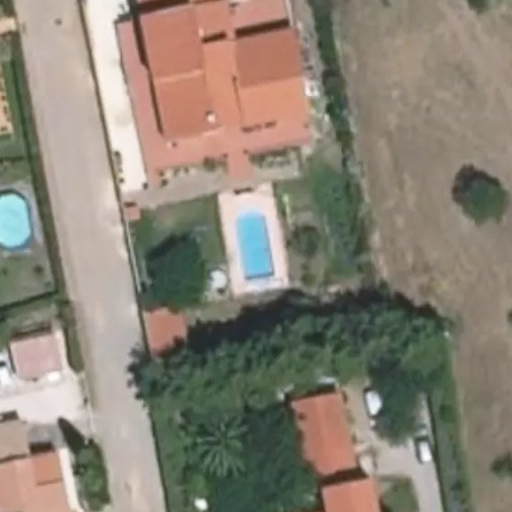pool: (231, 205, 279, 275)
